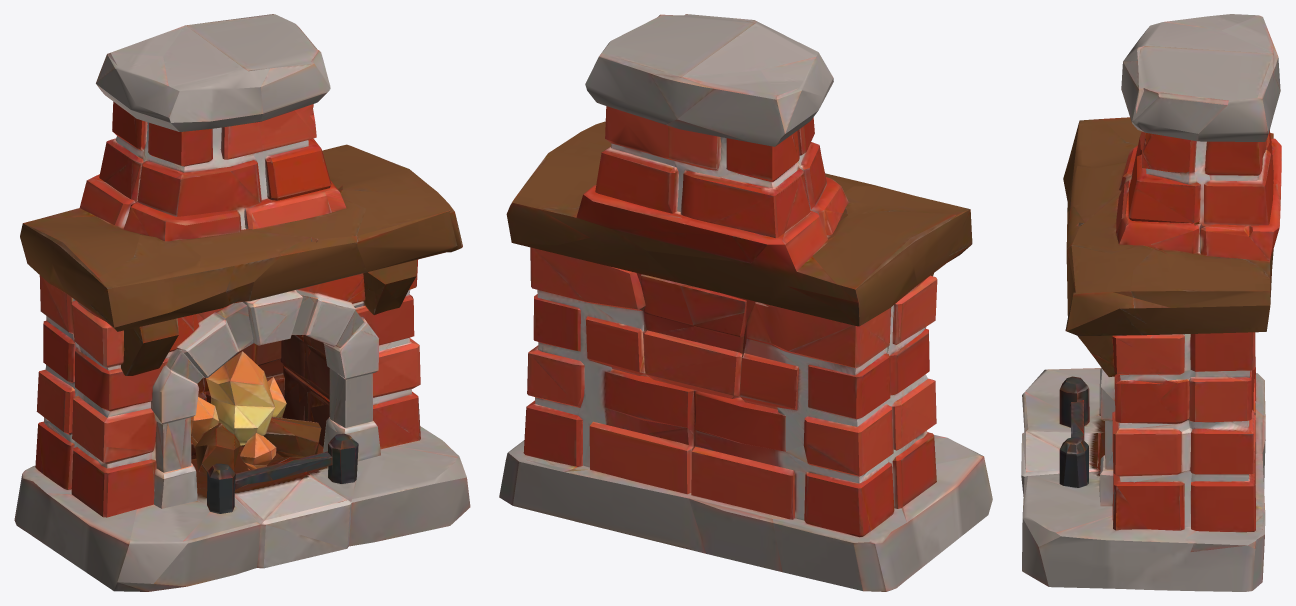
File: fireplace.glb
3 views of the same model, side by side, from view 1: azimuth 30°, elevation 25°; view 2: azimuth 150°, elevation 25°; view 3: azimuth 270°, elevation 25° (orthographic). The views are drawn at different scales.
Parts seen in each view (by area): view 1: Mesh_0; view 2: Mesh_0; view 3: Mesh_0.
Part boxes in pixels (left/top/right/bottom): Mesh_0: left=14, top=14, right=470, bottom=591; Mesh_0: left=499, top=14, right=992, bottom=591; Mesh_0: left=1021, top=14, right=1281, bottom=591.
Size of the model in its own units: 1.72 by 2 by 1.04.
Materials: 1 (1 with a texture image).
